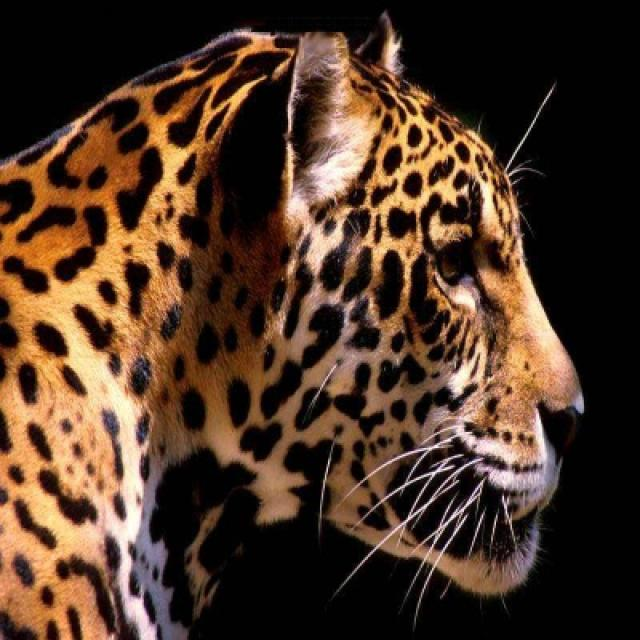Jaguar: (0, 16, 586, 638)
